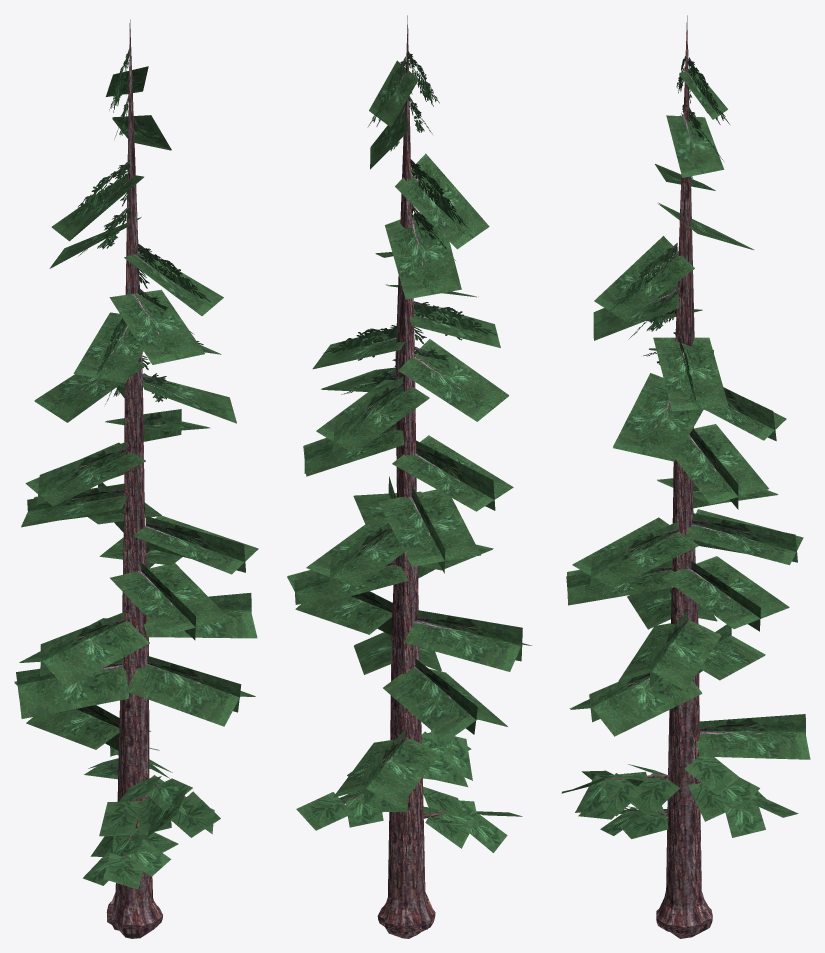
The model's file is frst_conf_redwood_sm_l0.fbx.
3 renders of one model, left to right at view 1: azimuth 30°, elevation 25°; view 2: azimuth 150°, elevation 25°; view 3: azimuth 270°, elevation 25°, orthographic.
Visible parts, largest first — view 1: mesh_node; view 2: mesh_node; view 3: mesh_node.
Part boxes in pixels (box(x1,y1,x2,y2)): mesh_node: box(14, 19, 258, 938); mesh_node: box(287, 15, 531, 938); mesh_node: box(561, 15, 810, 938).
Bounding box in the file's own units: 18.64 × 74.71 × 18.3.
